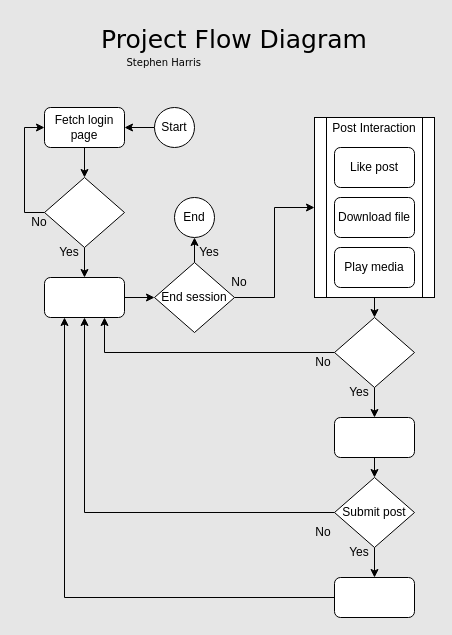
Some shapes in this 452 by 635 pixel diagram are drawn without their labels. Here are the shapes that lost their labels. From the top down, the box of each, then its label:
(44, 176, 124, 248): Login Successful
(44, 276, 124, 318): Fetch feed and posts
(334, 316, 414, 388): Create post
(334, 416, 414, 458): Fetch post editor page
(334, 576, 414, 618): Push post to feed
